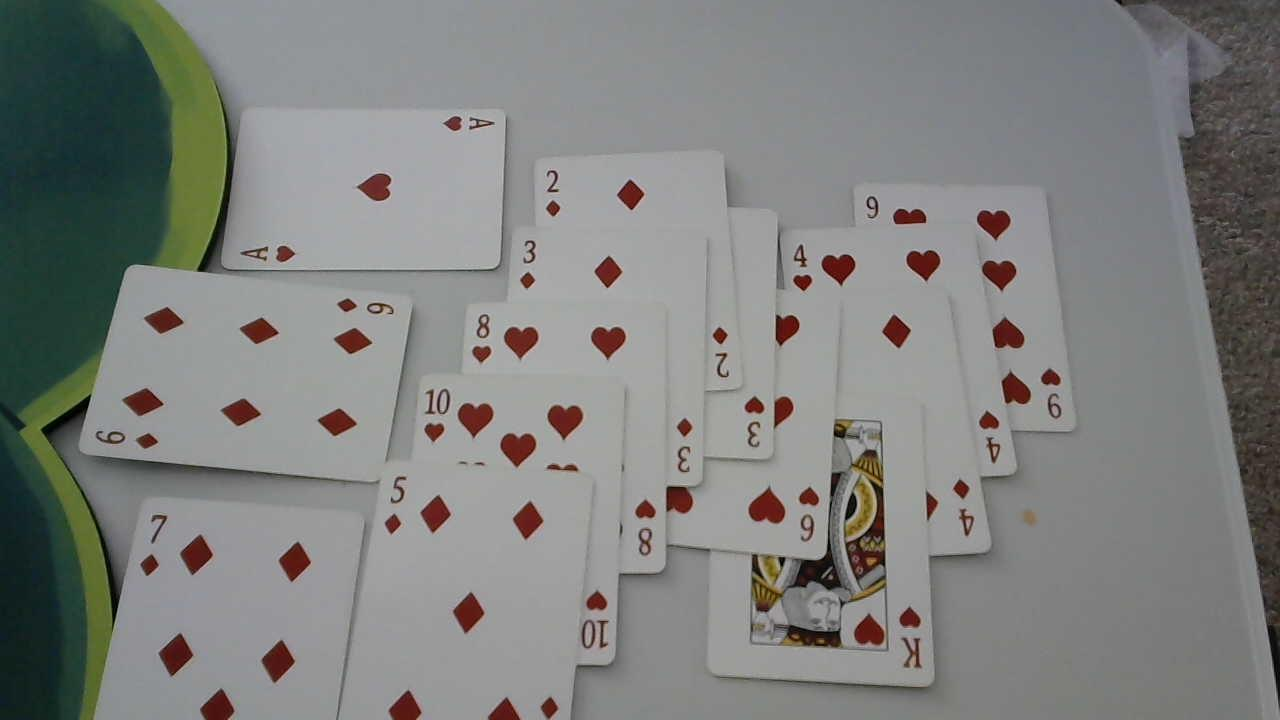10H: (581, 586, 610, 652), (421, 385, 450, 445)
2D: (710, 320, 733, 379), (543, 166, 563, 220)
3D: (674, 414, 694, 474), (518, 239, 538, 289)
3H: (740, 391, 767, 453)
4D: (950, 474, 978, 537)
4H: (977, 408, 1005, 466), (792, 240, 815, 293)
5D: (384, 473, 408, 537)
6D: (92, 427, 161, 452), (335, 293, 397, 320)
6H: (797, 480, 819, 542)
7D: (138, 504, 168, 578)
8H: (633, 496, 656, 558), (470, 310, 495, 366)
9H: (1040, 365, 1066, 423)
AH: (238, 242, 298, 262), (440, 111, 497, 132)
KH: (898, 605, 926, 671)
